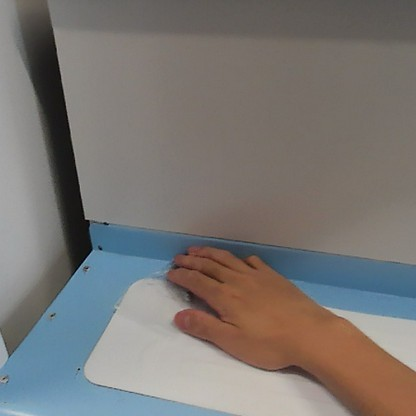ironball: (179, 287, 195, 305)
